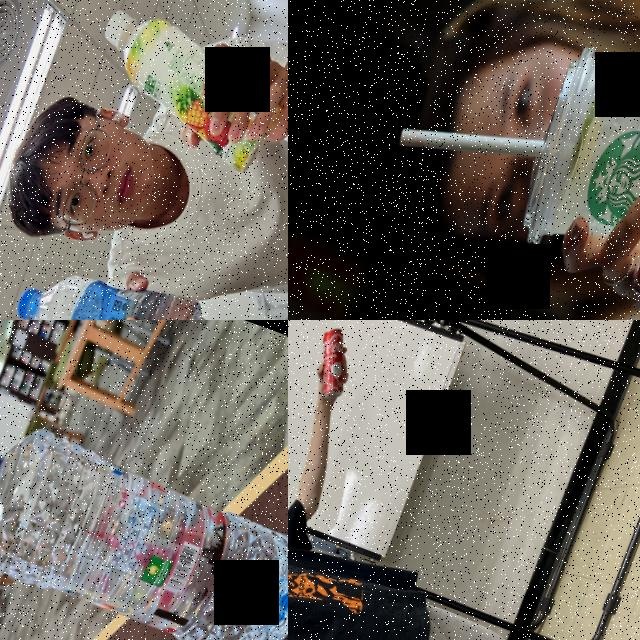bottle: (0, 403, 288, 640), (73, 0, 288, 180), (6, 238, 218, 320)
can: (303, 322, 366, 404)
cup: (505, 39, 640, 299)
